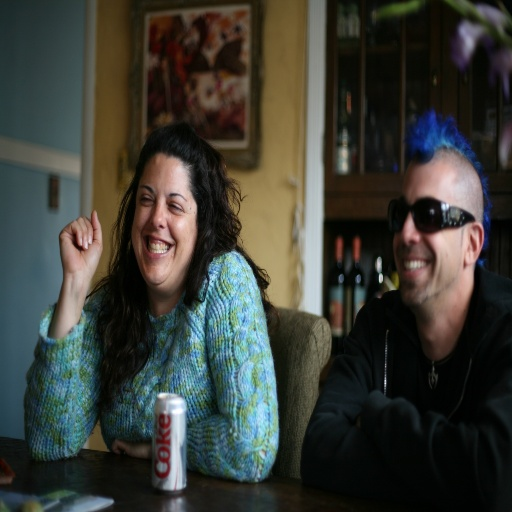hand: (58, 209, 103, 280), (110, 441, 152, 463)
